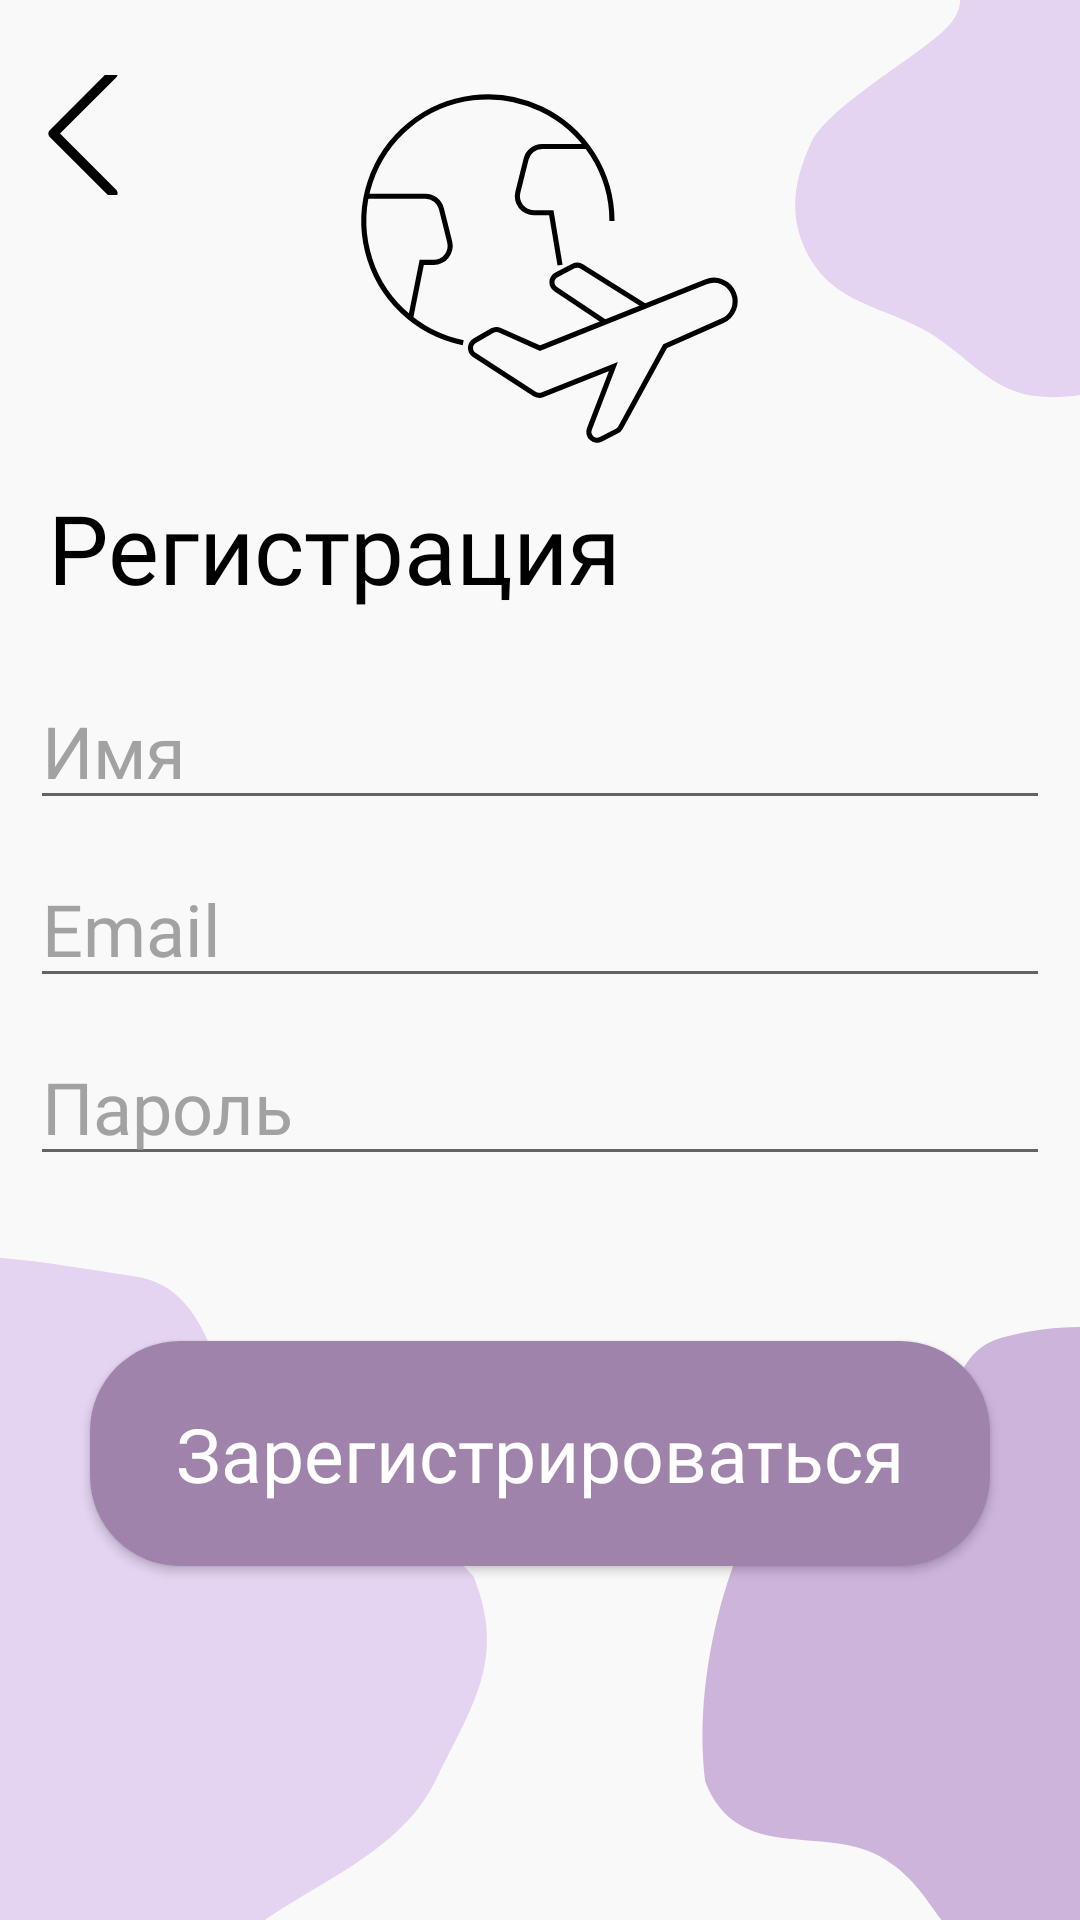

Icons on this 1080px×1920px Android screen, each with the point to tap as point (x, y):
back: point (83, 135)
